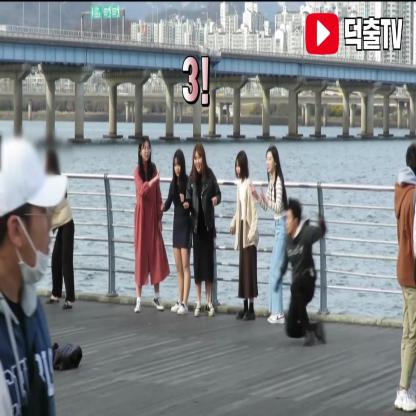Fall_Down: (271, 195, 331, 348)
